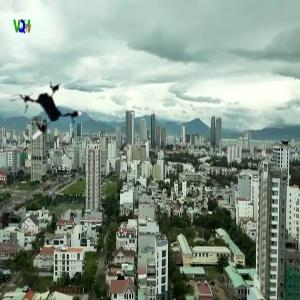drone: (8, 76, 83, 151)
